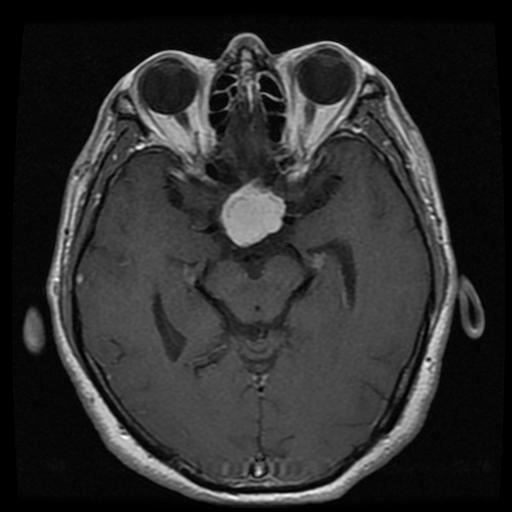Tumour-Meningioma: (210, 173, 311, 278)
